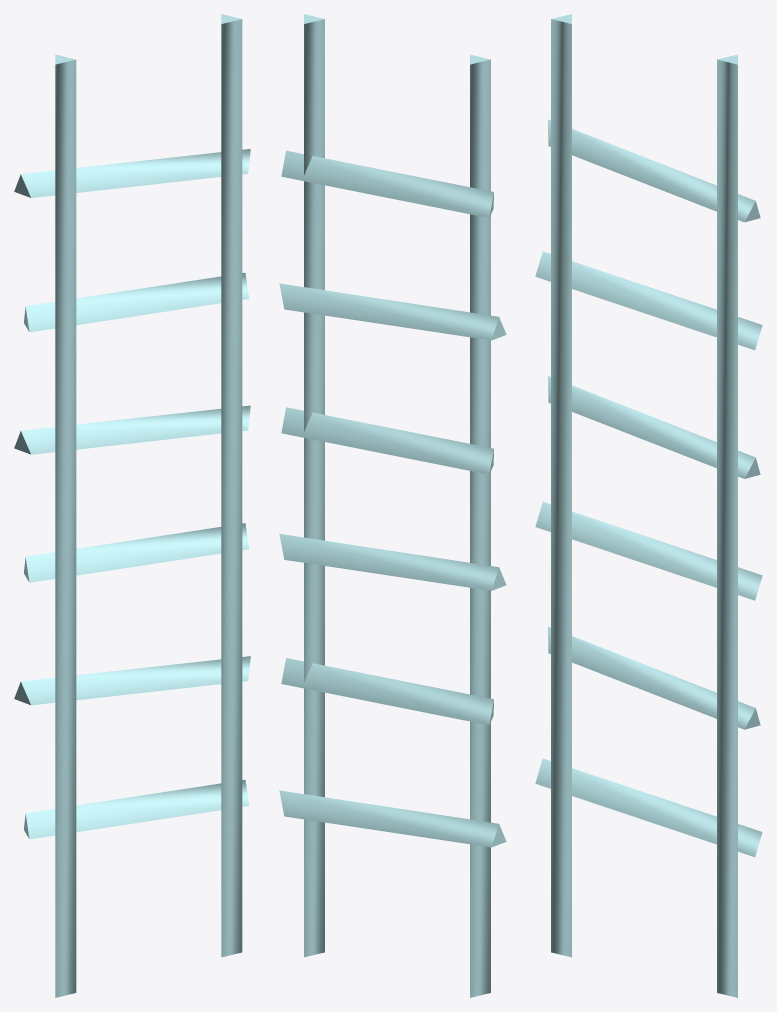
3 views of the same model, side by side, from view 1: azimuth 30°, elevation 25°; view 2: azimuth 150°, elevation 25°; view 3: azimuth 330°, elevation 25° (orthographic).
Visible parts, largest first — view 1: Object28; view 2: Object28; view 3: Object28.
Boxes of the visible parts, x1,y1,x2,y2 form: Object28: [14, 14, 250, 997]; Object28: [279, 14, 506, 997]; Object28: [535, 14, 762, 997].
Bounding box in the file's own units: 90.26 × 363 × 15.14.
